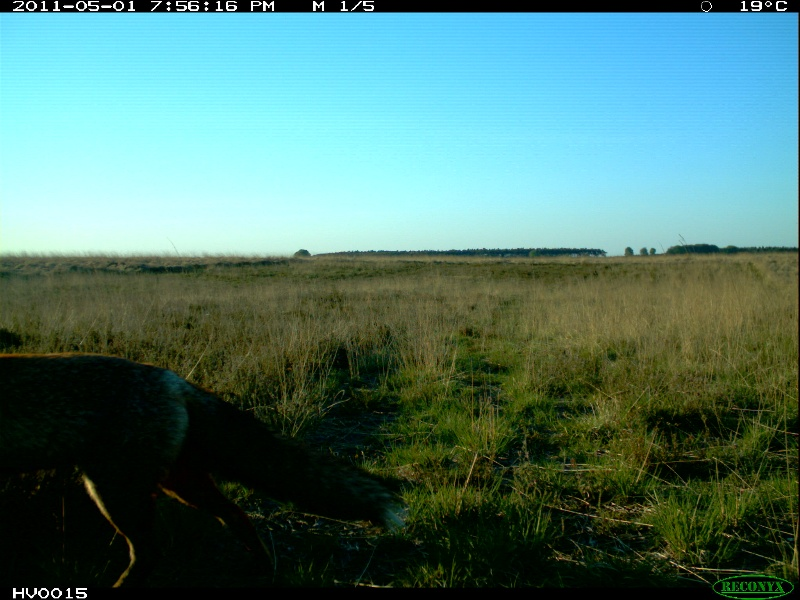fox: (1, 352, 411, 581)
